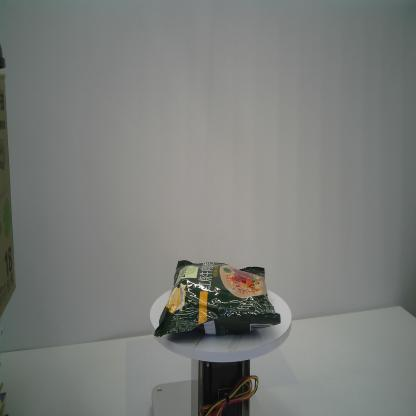Instant Noodles: (151, 258, 282, 342)
